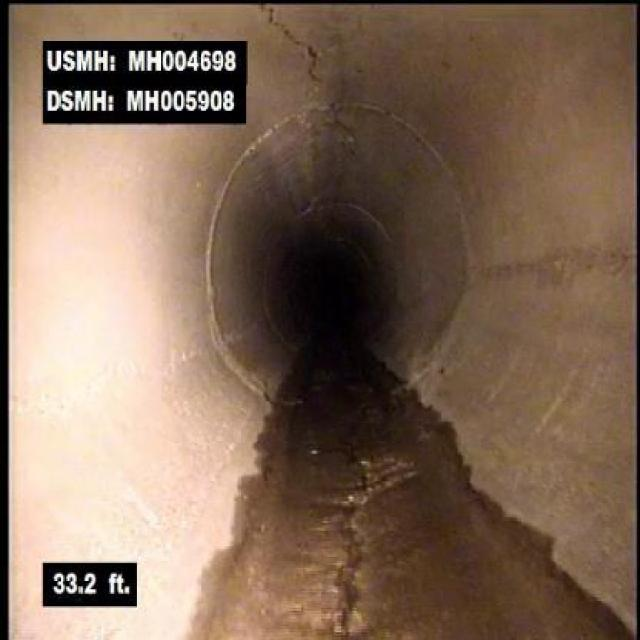Buckling: (331, 457, 374, 637)
Crack: (14, 357, 134, 414), (483, 242, 632, 278), (258, 6, 322, 85)
